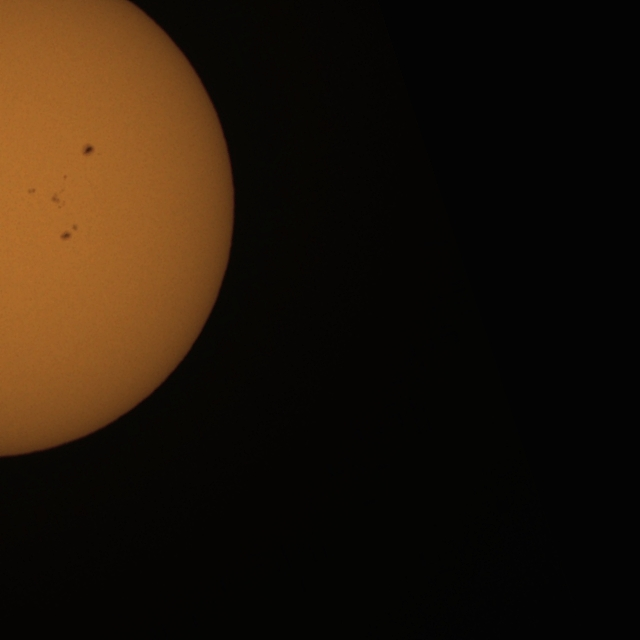sunspot: (50, 185, 68, 210), (60, 223, 79, 241), (81, 143, 96, 157), (27, 187, 36, 195), (62, 174, 68, 180)
